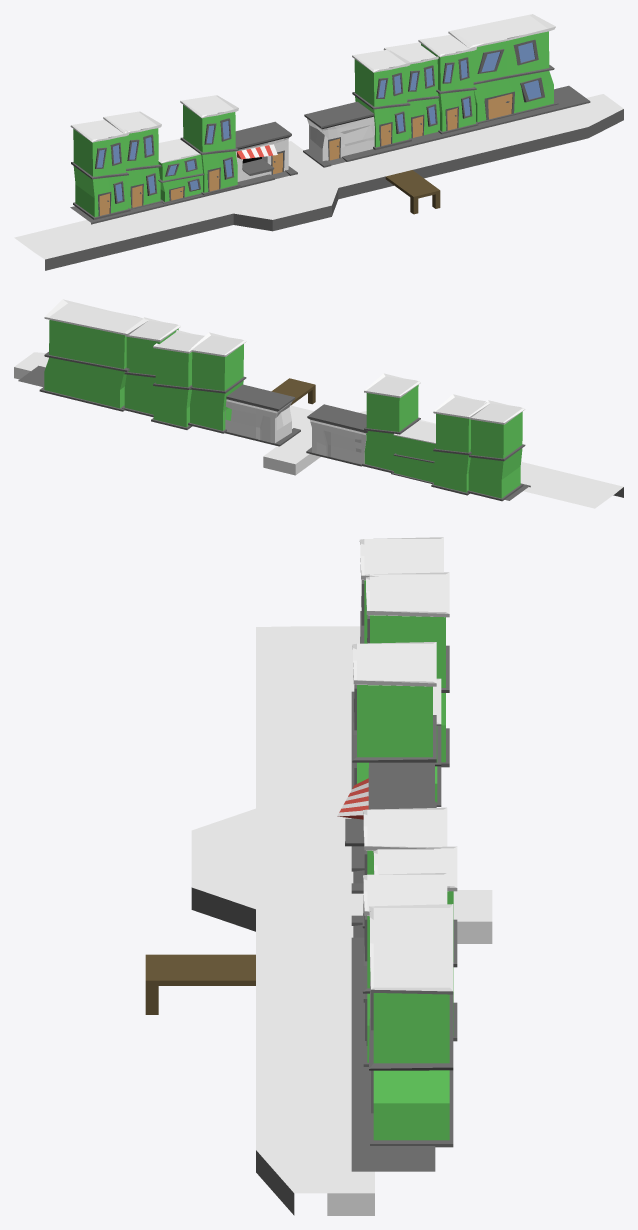
Rendered from Docks1.glb.
3 views of the same model, one above another, from view 1: azimuth 30°, elevation 25°; view 2: azimuth 150°, elevation 25°; view 3: azimuth 270°, elevation 25° (orthographic). The views are drawn at different scales.
Parts seen in each view (by area): view 1: Plane, Cube.007, Cube.002, Cube.006, Cube.003, Cube.009, Cube.001, Cube.004, Cube.005, Cube.008, Cube.010; view 2: Cube.007, Plane, Cube.006, Cube.003, Cube.009, Cube.002, Cube.005, Cube.008, Cube.004, Cube.001, Cube.010; view 3: Plane, Cube.007, Cube.009, Cube.005, Cube.002, Cube.001, Cube.003, Cube.004, Cube.006, Cube.008.
Boxes of the visible parts, bbox=[...] form: Plane: bbox=[14, 94, 623, 270]; Cube.007: bbox=[448, 14, 558, 123]; Cube.002: bbox=[303, 85, 590, 167]; Cube.006: bbox=[70, 120, 130, 219]; Cube.003: bbox=[352, 50, 411, 150]; Cube.009: bbox=[180, 95, 240, 194]; Cube.001: bbox=[70, 121, 297, 224]; Cube.004: bbox=[418, 35, 478, 134]; Cube.005: bbox=[103, 111, 162, 209]; Cube.008: bbox=[383, 42, 439, 138]; Cube.010: bbox=[158, 138, 204, 203]; Cube.007: bbox=[39, 299, 148, 411]; Plane: bbox=[14, 352, 623, 508]; Cube.006: bbox=[467, 400, 525, 501]; Cube.003: bbox=[188, 332, 246, 433]; Cube.009: bbox=[362, 373, 420, 472]; Cube.002: bbox=[18, 365, 300, 446]; Cube.005: bbox=[431, 394, 490, 495]; Cube.008: bbox=[151, 330, 204, 429]; Cube.004: bbox=[122, 317, 180, 417]; Cube.001: bbox=[306, 404, 530, 500]; Cube.010: bbox=[391, 420, 435, 483]; Plane: bbox=[145, 626, 492, 1215]; Cube.007: bbox=[369, 904, 453, 1147]; Cube.009: bbox=[352, 642, 436, 818]; Cube.005: bbox=[365, 572, 449, 767]; Cube.002: bbox=[351, 915, 435, 1171]; Cube.001: bbox=[337, 691, 434, 893]; Cube.003: bbox=[362, 807, 447, 1002]; Cube.004: bbox=[362, 873, 447, 1066]; Cube.006: bbox=[359, 537, 443, 643]; Cube.008: bbox=[373, 846, 457, 1041].
Bounding box in the file's own units: 141 × 22.78 × 36.5.
